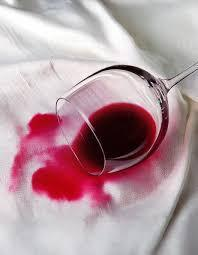oil: (31, 141, 159, 198), (14, 111, 65, 194)
